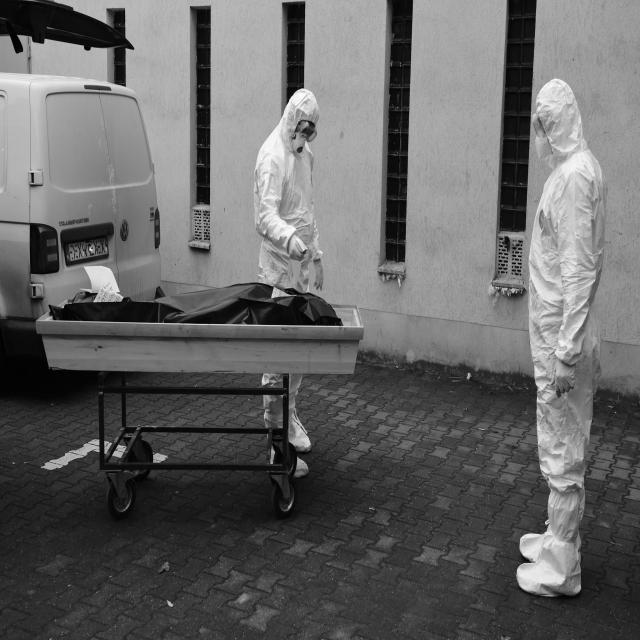Coverall: (511, 76, 608, 604), (251, 87, 323, 470)
Gloves: (552, 354, 578, 400), (287, 232, 308, 263), (313, 256, 325, 295)
Goggles: (298, 118, 319, 144), (533, 110, 547, 140)
Mask: (534, 135, 550, 161), (291, 134, 305, 154)
